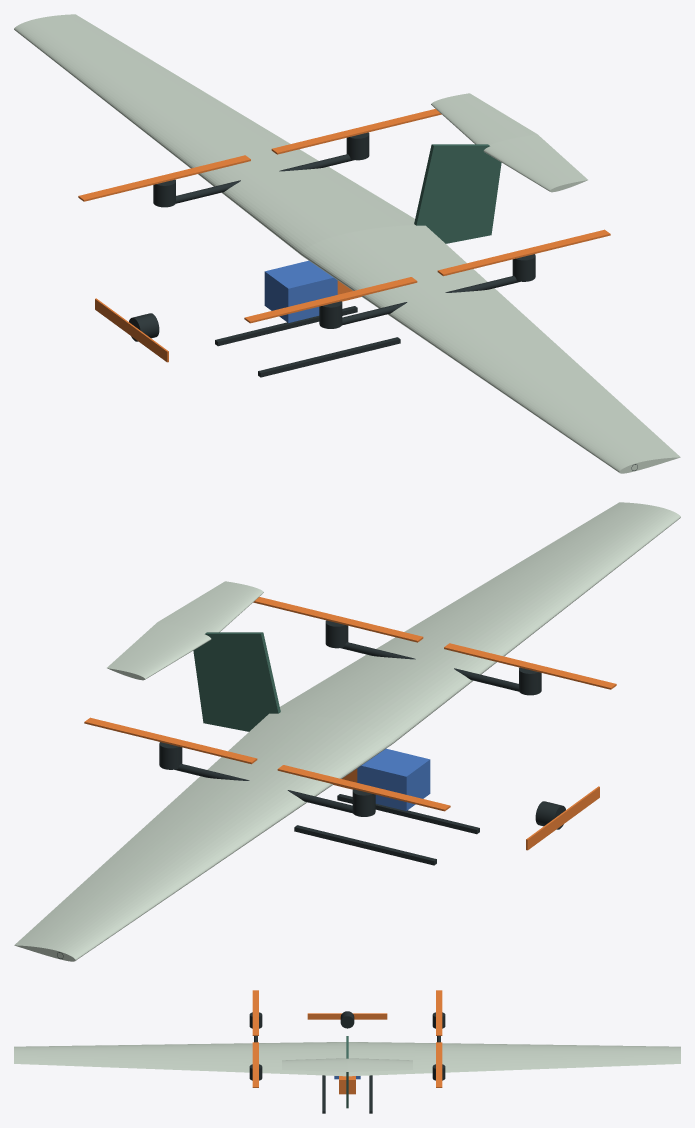
The model's file is 05-internal.glb.
3 views of the same model, one above another, from view 1: azimuth 30°, elevation 25°; view 2: azimuth 150°, elevation 25°; view 3: azimuth 270°, elevation 25° (orthographic). The views are drawn at different scales.
Visible parts, largest first — view 1: wing-1, wing1, fin, tail-1, payload, tail1, prop_-1_230.0, prop_-1_700.0, prop_1_230.0, prop_1_700.0, skid-1, cruise_prop (+3 smaller); view 2: wing1, wing-1, fin, tail1, payload, tail-1, prop_1_230.0, prop_1_700.0, prop_-1_230.0, prop_-1_700.0, skid1, cruise_prop (+3 smaller); view 3: wing-1, wing1, tail-1, tail1, cruise_prop, prop_-1_230.0, prop_-1_700.0, prop_1_230.0, prop_1_700.0, battery, cruise_motor.
Boxes of the visible parts, x1=… form: wing-1: x1=301, y1=225, x2=680, y2=473; wing1: x1=14, y1=14, x2=414, y2=255; fin: x1=414, y1=144, x2=501, y2=243; tail-1: x1=483, y1=134, x2=587, y2=192; payload: x1=264, y1=260, x2=337, y2=322; tail1: x1=431, y1=93, x2=536, y2=145; prop_-1_230.0: x1=244, y1=277, x2=417, y2=323; prop_-1_700.0: x1=437, y1=229, x2=610, y2=276; prop_1_230.0: x1=78, y1=155, x2=250, y2=201; prop_1_700.0: x1=271, y1=109, x2=441, y2=154; skid-1: x1=258, y1=337, x2=400, y2=377; cruise_prop: x1=95, y1=298, x2=168, y2=362; wing1: x1=14, y1=713, x2=393, y2=961; wing-1: x1=280, y1=502, x2=680, y2=743; fin: x1=193, y1=632, x2=280, y2=731; tail1: x1=107, y1=622, x2=211, y2=680; payload: x1=357, y1=748, x2=430, y2=810; tail-1: x1=158, y1=581, x2=263, y2=633; prop_1_230.0: x1=277, y1=765, x2=450, y2=811; prop_1_700.0: x1=84, y1=717, x2=257, y2=764; prop_-1_230.0: x1=444, y1=643, x2=616, y2=689; prop_-1_700.0: x1=253, y1=597, x2=423, y2=642; skid1: x1=294, y1=825, x2=436, y2=865; cruise_prop: x1=526, y1=786, x2=599, y2=850; wing-1: x1=14, y1=1042, x2=346, y2=1076; wing1: x1=348, y1=1042, x2=680, y2=1076; tail-1: x1=282, y1=1058, x2=347, y2=1071; tail1: x1=347, y1=1058, x2=412, y2=1071; cruise_prop: x1=307, y1=1013, x2=387, y2=1019; prop_-1_230.0: x1=252, y1=990, x2=258, y2=1035; prop_-1_700.0: x1=252, y1=1042, x2=258, y2=1087; prop_1_230.0: x1=436, y1=990, x2=442, y2=1035; prop_1_700.0: x1=436, y1=1042, x2=442, y2=1087; battery: x1=339, y1=1076, x2=355, y2=1094; cruise_motor: x1=340, y1=1011, x2=354, y2=1028.
Bounding box in the file's own units: 989 × 391 × 2550.
